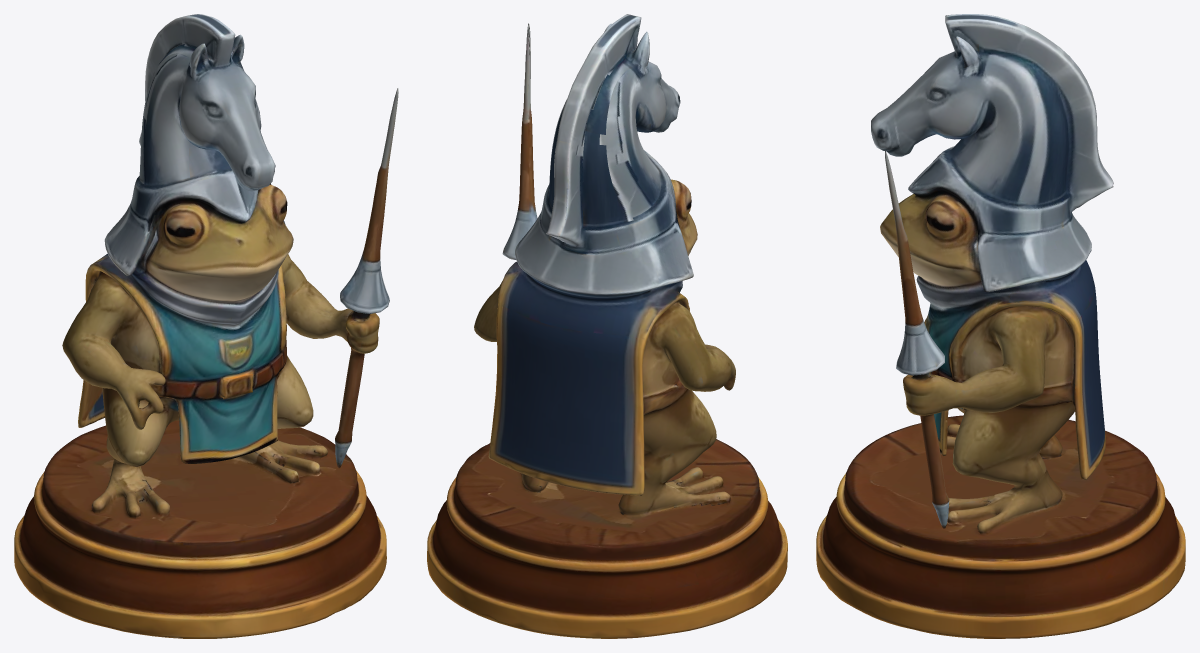
The model's file is rodin-knight-ally.glb.
The picture shows the model from 3 angles, left to right: view 1: azimuth 30°, elevation 25°; view 2: azimuth 150°, elevation 25°; view 3: azimuth 270°, elevation 25°; orthographic projection. The views are drawn at different scales.
Visible parts, largest first — view 1: model; view 2: model; view 3: model.
Boxes of the visible parts, x1=… form: model: x1=14, y1=14, x2=398, y2=638; model: x1=427, y1=14, x2=787, y2=638; model: x1=816, y1=14, x2=1185, y2=638.
Size of the model in its own units: 1.17 by 1.9 by 1.17.
1 material, 1 textured.
